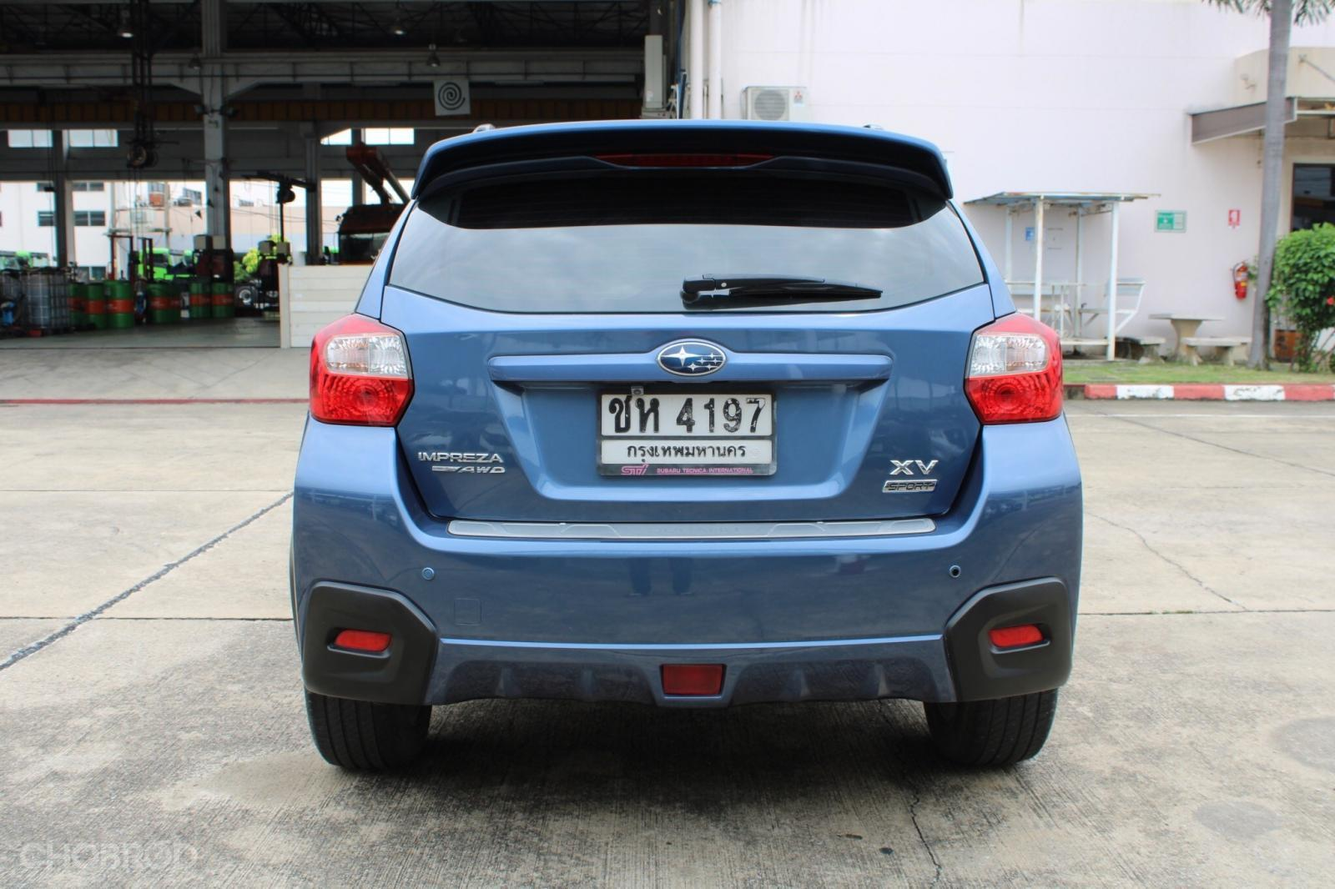license-plate: (597, 385, 777, 478)
